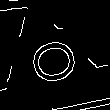O_W: (16, 36, 77, 91)
